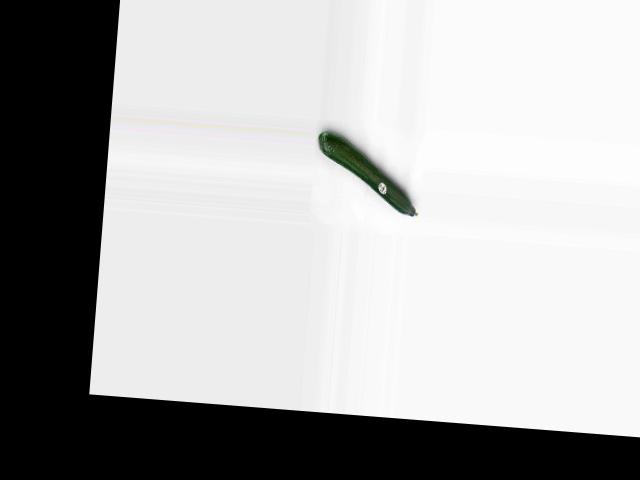cucumber: (313, 131, 424, 216)
